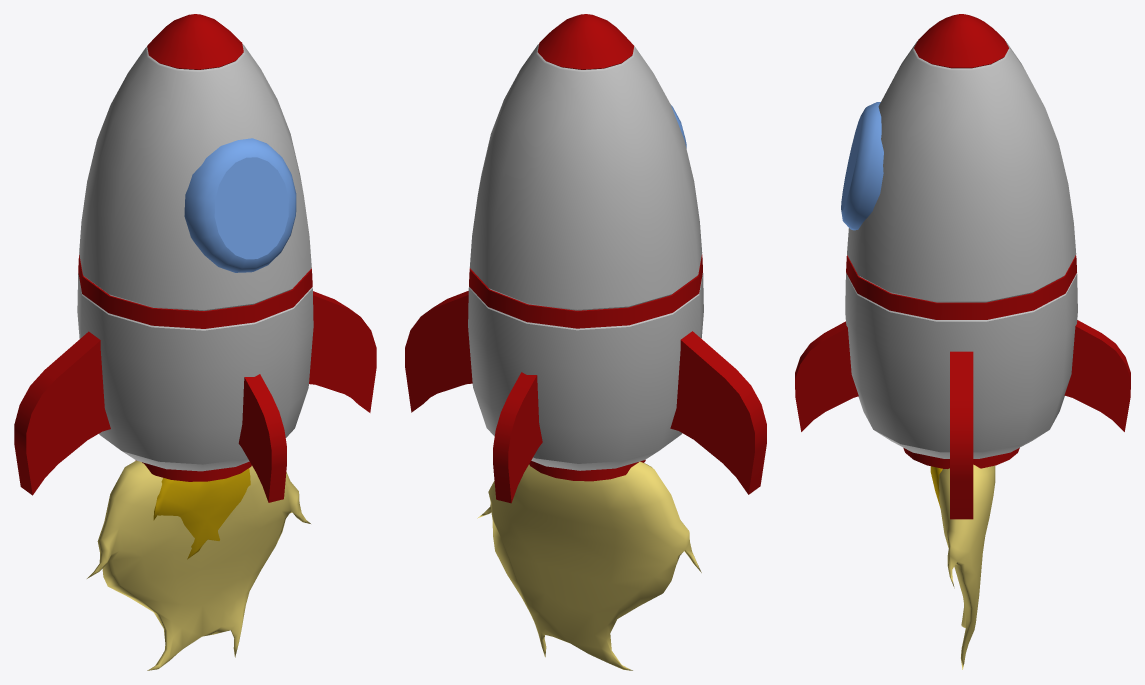
3 views of the same model, side by side, from view 1: azimuth 30°, elevation 25°; view 2: azimuth 150°, elevation 25°; view 3: azimuth 270°, elevation 25° (orthographic). The views are drawn at different scales.
Parts seen in each view (by area): view 1: part1_lv12_gray, part1_lv12_red, part1_lv12_yellow, part1_lv12_blue, part1_lv12_orange; view 2: part1_lv12_gray, part1_lv12_red, part1_lv12_yellow; view 3: part1_lv12_gray, part1_lv12_red, part1_lv12_yellow, part1_lv12_blue.
Part boxes in pixels (x1,y1,x2,y2): part1_lv12_gray: (77, 44, 313, 471); part1_lv12_red: (14, 14, 376, 502); part1_lv12_yellow: (87, 460, 310, 670); part1_lv12_blue: (184, 138, 296, 272); part1_lv12_orange: (153, 468, 250, 559); part1_lv12_gray: (468, 44, 703, 470); part1_lv12_red: (405, 14, 766, 503); part1_lv12_yellow: (477, 461, 701, 670); part1_lv12_gray: (845, 41, 1077, 458); part1_lv12_red: (795, 14, 1130, 519); part1_lv12_yellow: (939, 464, 995, 669); part1_lv12_blue: (841, 102, 883, 230).
Bounding box in the file's own units: 32.7 × 58.37 × 27.84.
